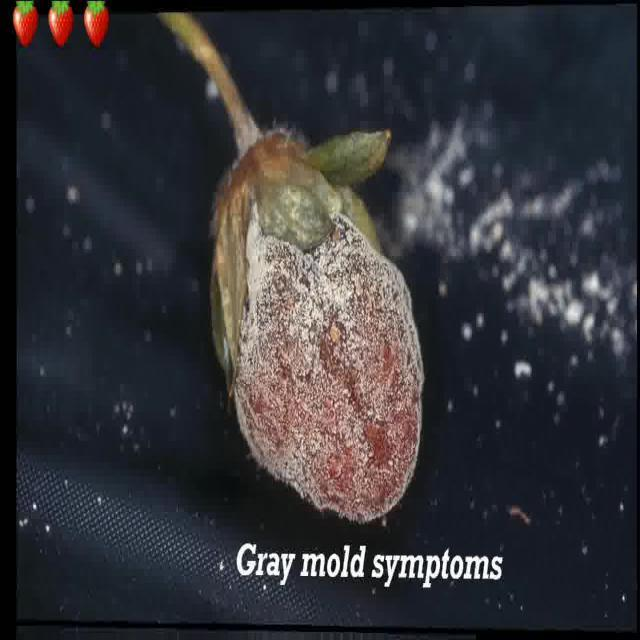Moho gris: (206, 122, 468, 534)
